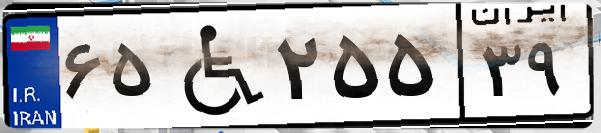2: (270, 28, 330, 110)
3: (475, 38, 525, 113)
5: (385, 28, 445, 110), (330, 28, 385, 110), (110, 28, 158, 98)
6: (57, 26, 110, 100)
9: (525, 38, 570, 115)
ژ (معلولین و جانبازان): (158, 12, 270, 120)
